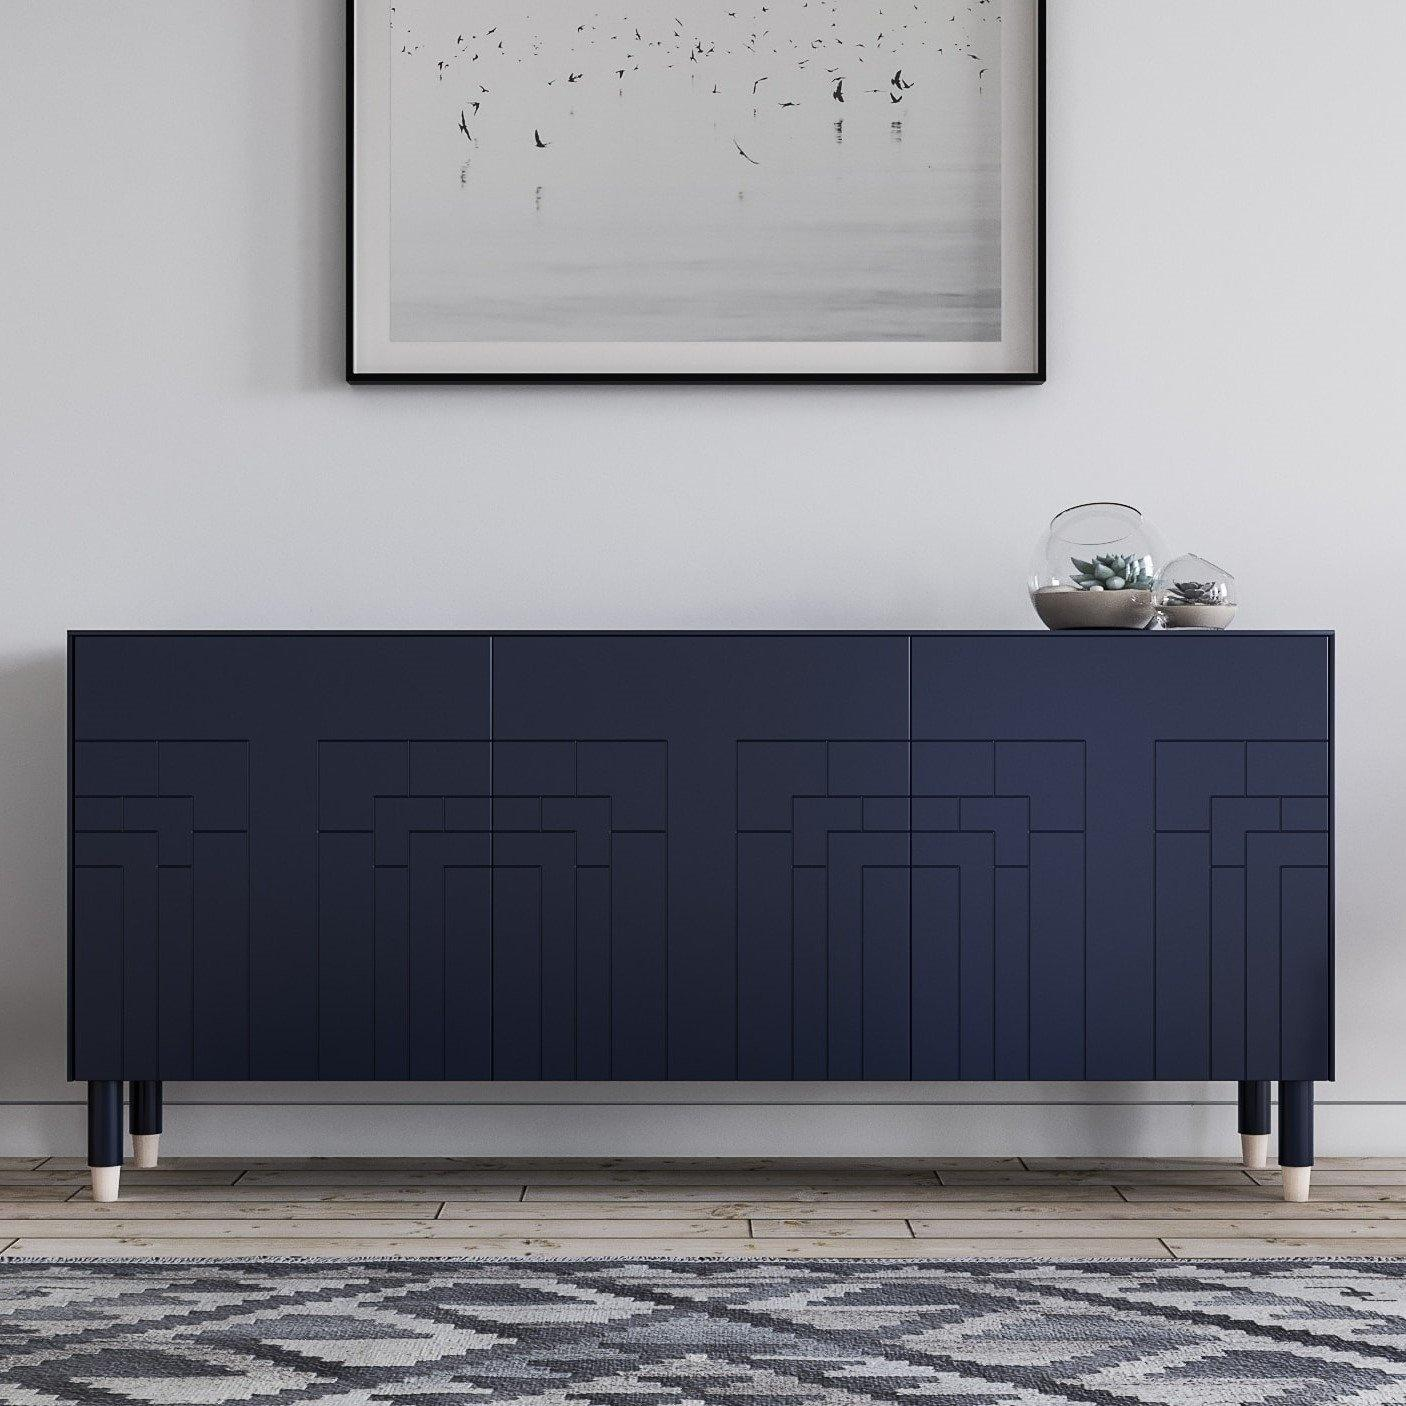cabinet_door: (491, 633, 914, 1078), (70, 632, 491, 1074), (915, 628, 1334, 1073)
